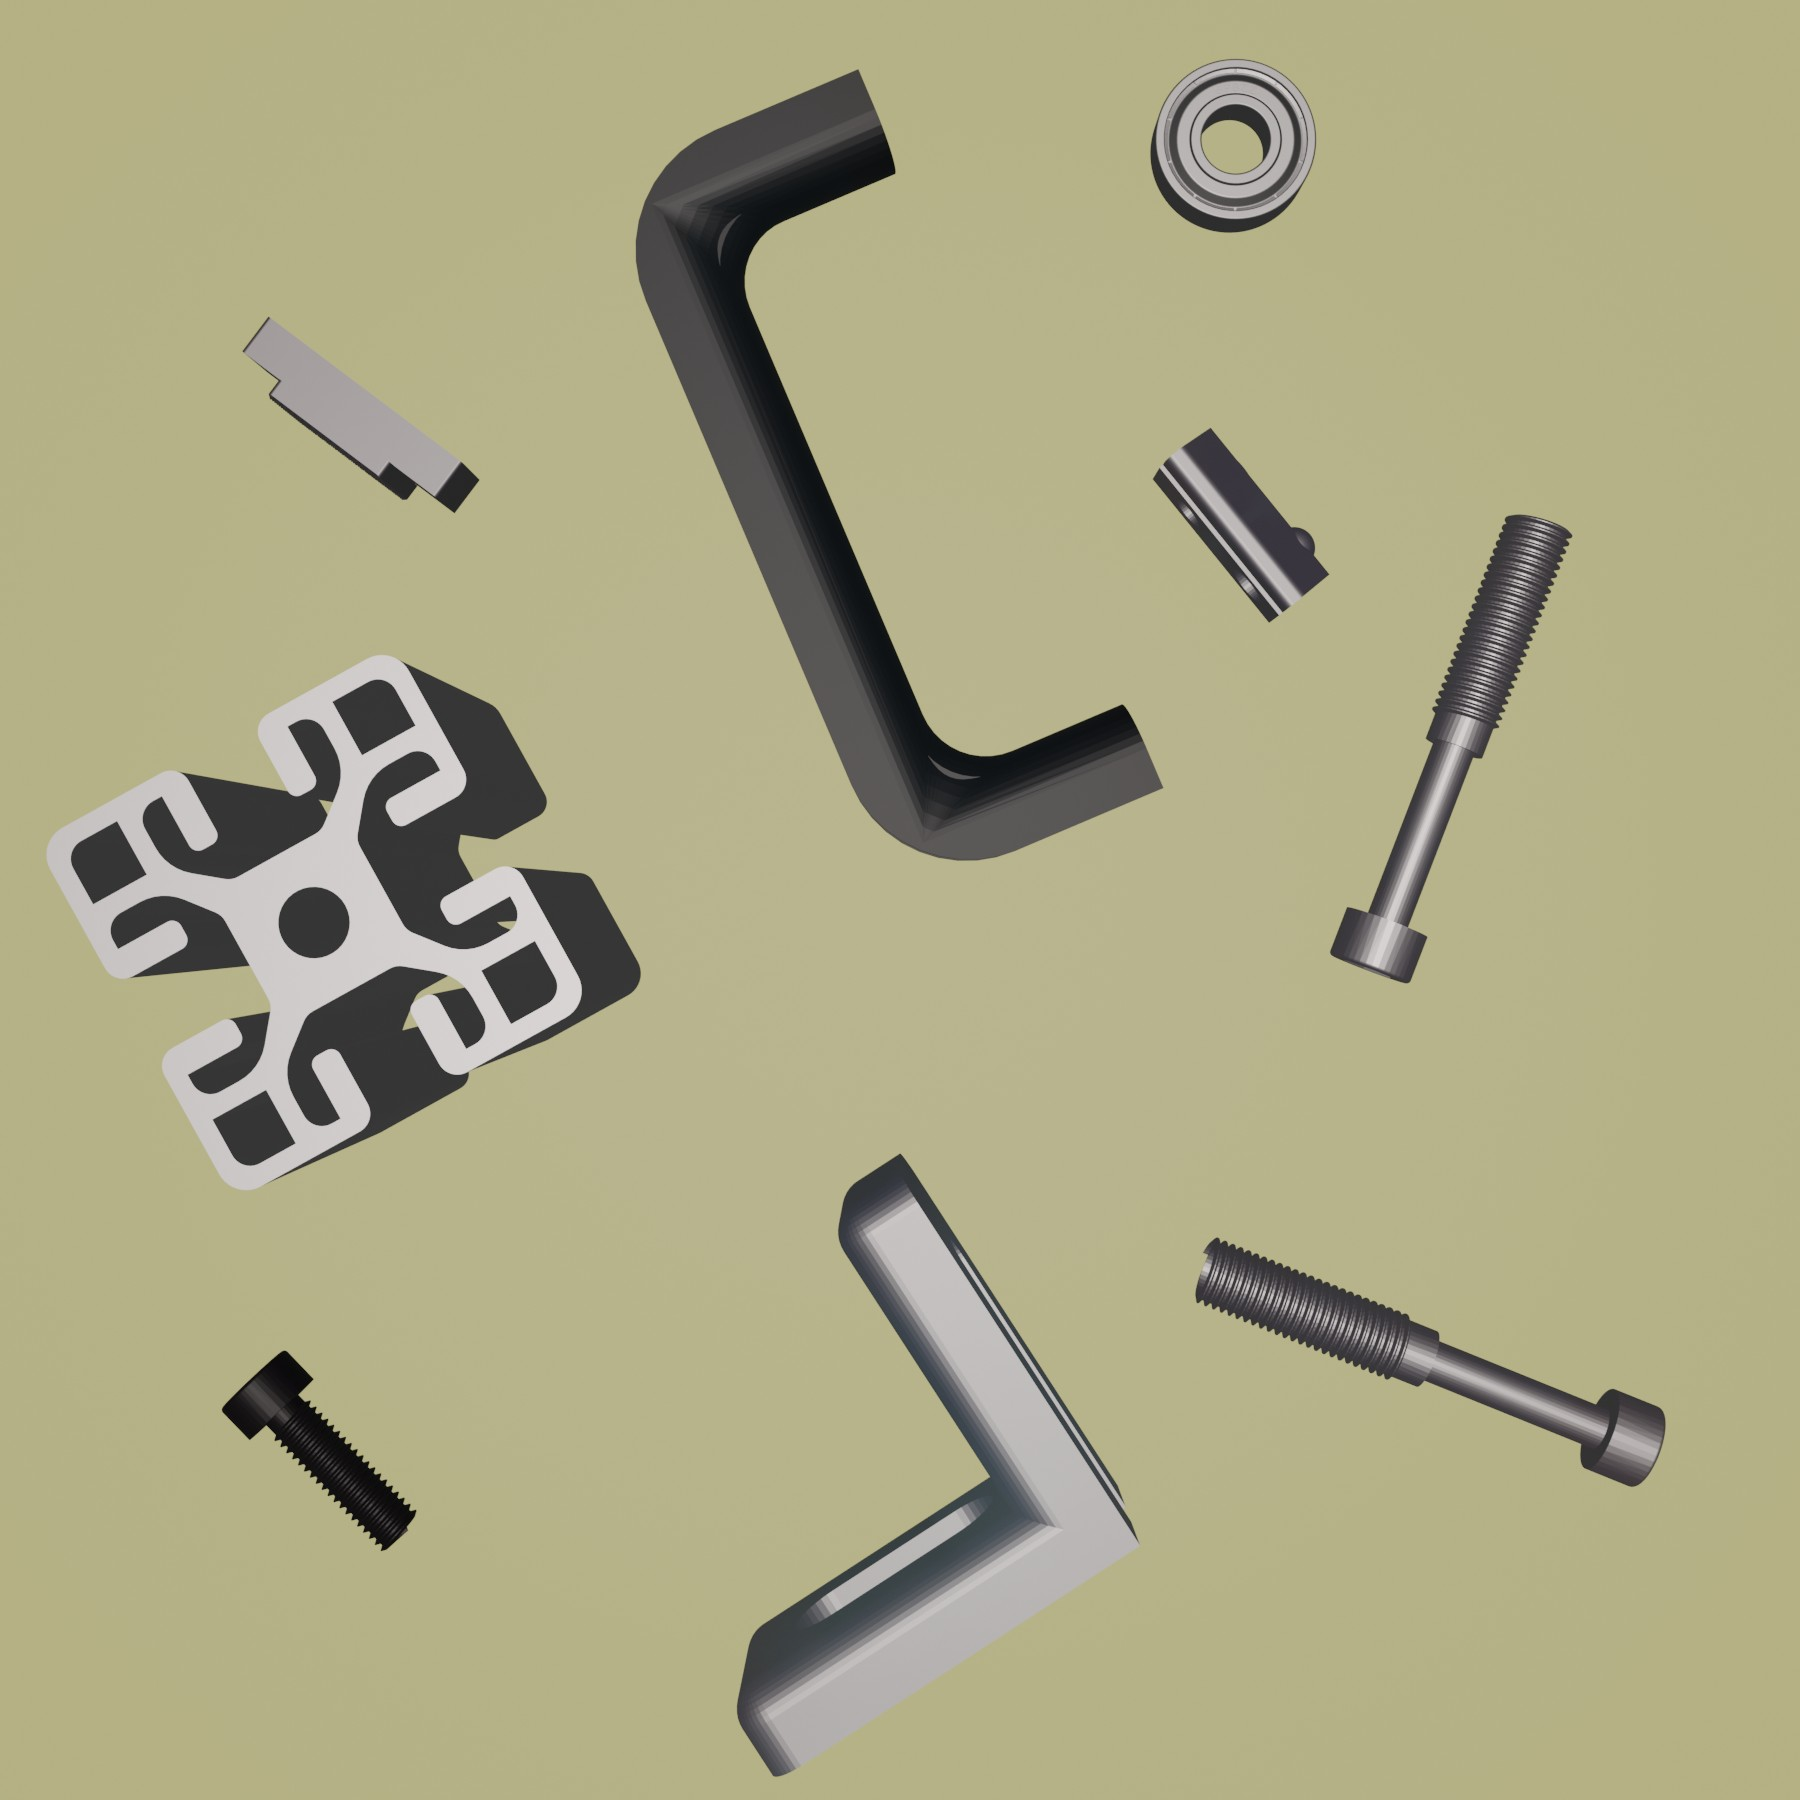Aluminium Extension: (45, 653, 641, 1197)
Ball Bearing: (1147, 54, 1319, 236)
Multiwinkel: (734, 1151, 1146, 1780)
Pull Handle: (633, 66, 1165, 862)
Shoulder Socket Head Cap Screw: (1188, 1235, 1666, 1488), (1329, 511, 1573, 987)
Socket Head Cap Screw: (218, 1345, 419, 1554)
T Nut Square: (236, 312, 483, 518)
T Spring Nut: (1147, 425, 1330, 623)
